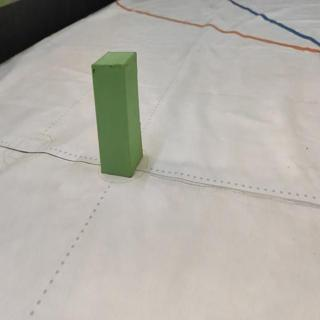greenbox: (91, 50, 144, 178)
